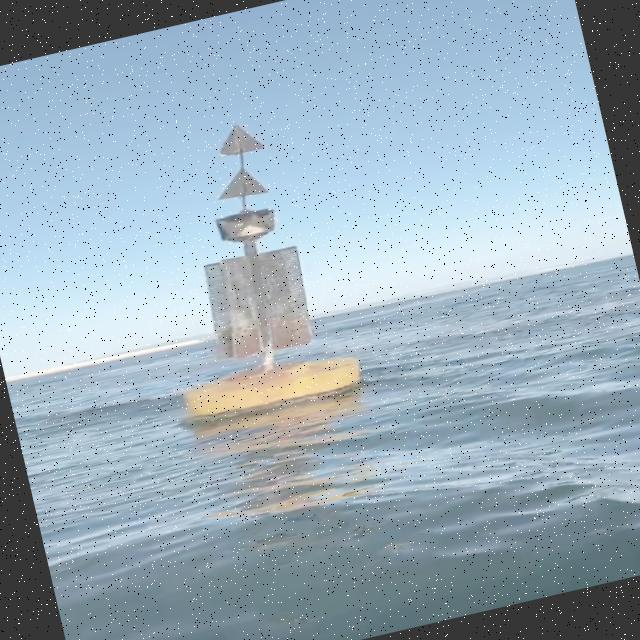marque: (129, 108, 376, 432)
